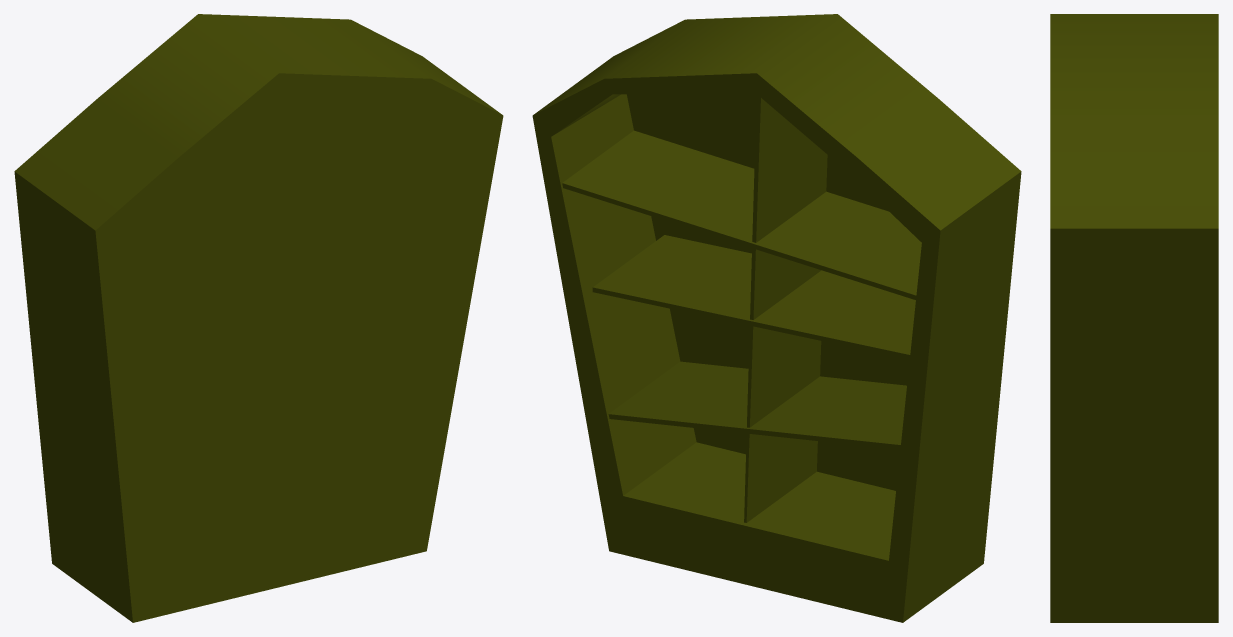
Rendered from BgMD_bookshelf_mid (1).fbx.
3 renders of one model, left to right at view 1: azimuth 30°, elevation 25°; view 2: azimuth 150°, elevation 25°; view 3: azimuth 270°, elevation 25°, orthographic. The views are drawn at different scales.
Visible parts, largest first — view 1: tmp_Bg_Bookshelf_Mid08; view 2: tmp_Bg_Bookshelf_Mid08; view 3: tmp_Bg_Bookshelf_Mid08.
Boxes of the visible parts, <box> form: tmp_Bg_Bookshelf_Mid08: <box>14,14,503,622</box>; tmp_Bg_Bookshelf_Mid08: <box>532,14,1021,622</box>; tmp_Bg_Bookshelf_Mid08: <box>1050,14,1218,622</box>.
Bounding box in the file's own units: 90.22 × 109 × 31.
